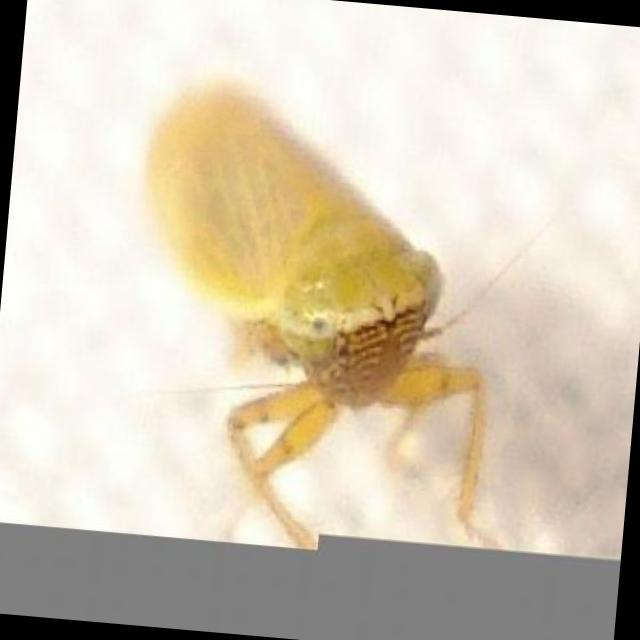green-leafhopper: (144, 72, 493, 552)
